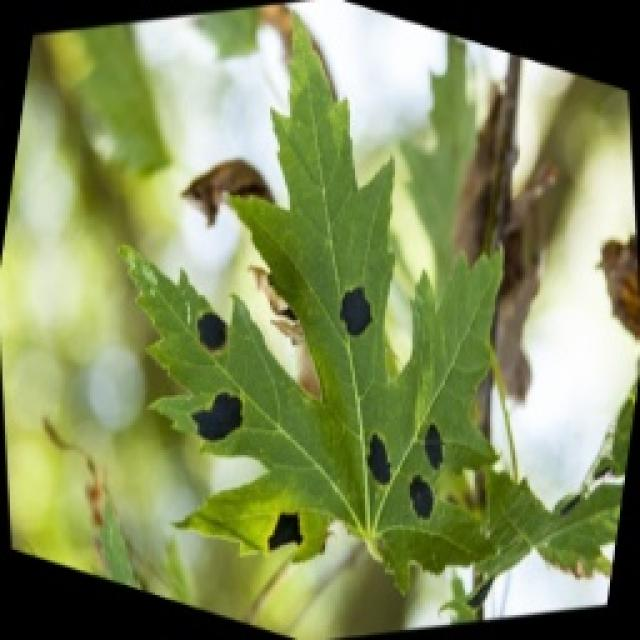Tar_Spot: (0, 0, 638, 638), (141, 186, 468, 561)
